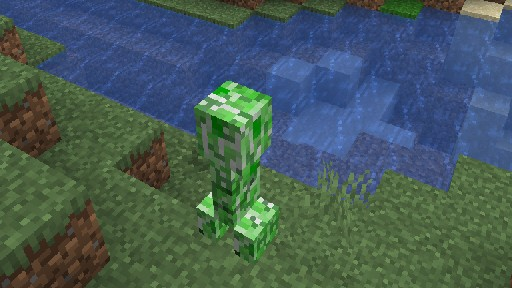creeper: (193, 79, 279, 265)
